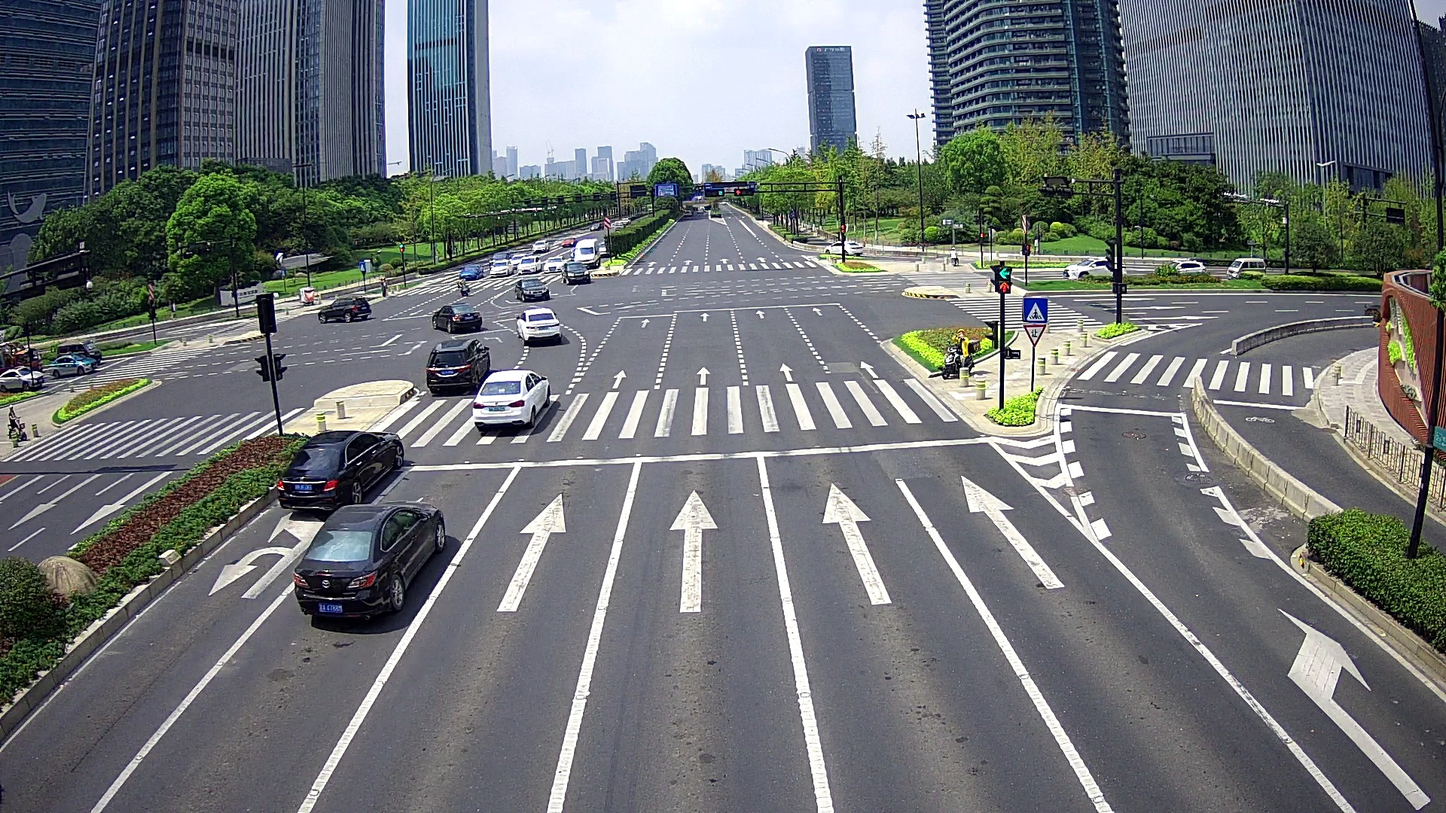person: (955, 322, 973, 371), (5, 401, 17, 434)
vehicle: (287, 501, 448, 629), (273, 425, 407, 514), (468, 365, 555, 432), (421, 337, 489, 399), (429, 300, 487, 338), (313, 289, 372, 326), (513, 306, 566, 346), (938, 338, 983, 381), (513, 276, 547, 299), (6, 416, 30, 440)
